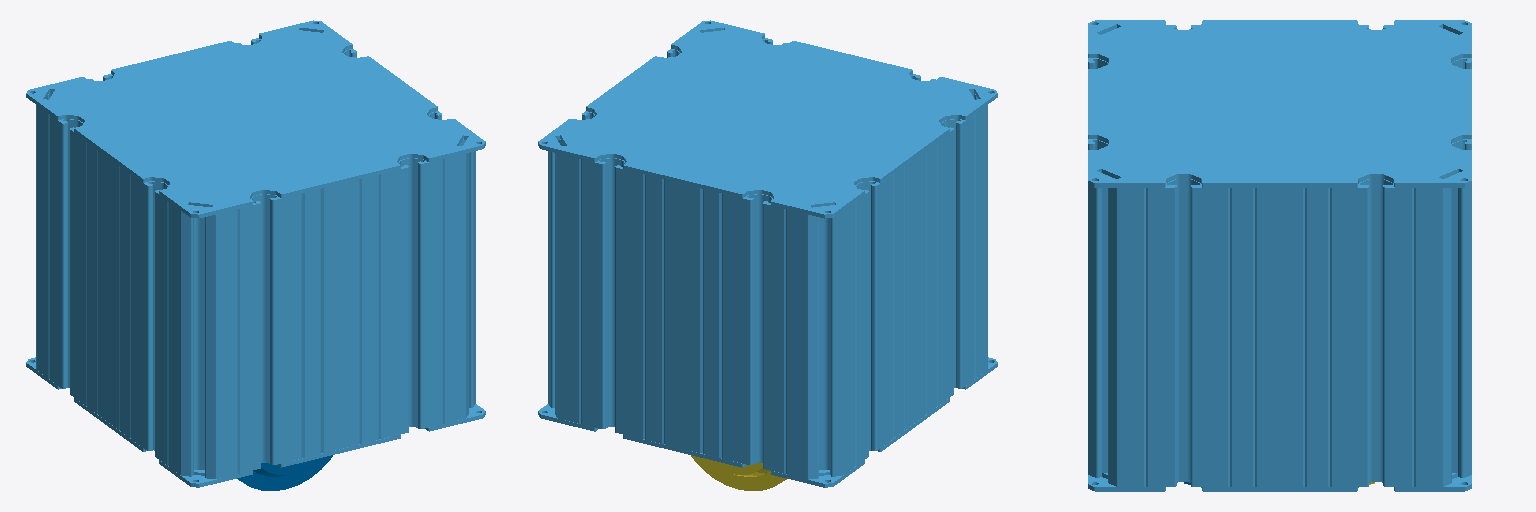
URDF robot description (wheel_brick):
<?xml version="1.0" encoding="utf-8"?>
<robot name="wheel_brick">
    <link name="base_link"/>
    <link name="base_link_inertia">
        <visual>
            <origin rpy="0 0 0" xyz="0 0 0"/>
            <geometry>
                <mesh filename="../meshes/wheeled_brick_housing.obj"/>
            </geometry>
        </visual>
        <!-- Base joint -->
        <collision>
            <origin rpy="0 0 0" xyz="0.0 0.0 0.0"/>
            <geometry>
                <sphere radius="0.07"/>
            </geometry>
        </collision>
        <inertial>
            <mass value="4.0"/>
            <origin rpy="0 0 0" xyz="0 0 0"/>
            <inertia ixx="0.00443333156" ixy="0.0" ixz="0.0" iyy="0.00443333156" iyz="0.0" izz="0.0072"/>
        </inertial>
    </link>
    <link name="pivot_link">
        <visual>
            <origin xyz="0 0 0" rpy="0 0 0"/>
            <geometry>
                <mesh filename="../meshes/kelo_drive_base.obj" scale="1 1 1"/>
            </geometry>
        </visual>

        <!--TODO: Set the correct collisions -->
        <collision>
            <origin xyz="0 0 0.07" rpy="0 0 0"/>
            <geometry>
                <box size="0.105 0.154 0.025" />
            </geometry>
        </collision>
    </link>
    <link name="left_hub_wheel_link">
        <visual>
            <origin xyz="-0.01 0.039326 0.001514" rpy="0 0 0.0"/>
            <geometry>
                <mesh filename="../meshes/kelo_drive_wheel.obj" scale="1 1 1"/>
            </geometry>
        </visual>
        <collision>
            <origin xyz="-0.01 0.039326 0.001514" rpy="1.570796327 0 0"/>
            <geometry>
                <cylinder radius="0.0515" length="0.035"/>
            </geometry>
        </collision>
    </link>
    <link name="right_hub_wheel_link">
        <visual>
            <origin xyz="-0.01 -0.039326 0.001514" rpy="0 0 0.0"/>
            <geometry>
                <mesh filename="../meshes/kelo_drive_wheel.obj" scale="1 1 1"/>
            </geometry>
        </visual>
        <collision>
            <origin xyz="-0.01 -0.039326 0.001514" rpy="1.570796327 0 0"/>
            <geometry>
                <cylinder radius="0.0515" length="0.035"/>
            </geometry>
        </collision>
    </link>
    <joint name="base_link-base_link_inertia" type="fixed">
        <parent link="base_link"/>
        <child link="base_link_inertia"/>
        <origin rpy="0 0 0" xyz="0 0 0"/>
    </joint>
    <joint name="base_link-pivot_link" type="fixed">
        <parent link="base_link"/>
        <child link="pivot_link"/>
        <origin rpy="0 0 0" xyz="0 0 0"/>
    </joint>
    <joint name="pivot_link-left_hub_wheel_link" type="fixed">
        <parent link="pivot_link"/>
        <child link="left_hub_wheel_link"/>
        <origin rpy="0 0 0" xyz="0 0 0"/>
    </joint>
    <joint name="pivot_link-right_hub_wheel_link" type="fixed">
        <parent link="pivot_link"/>
        <child link="right_hub_wheel_link"/>
        <origin rpy="0 0 0" xyz="0 0 0"/>
    </joint>
</robot>

--- Facts derived from the render (not from the file) ---
3 views of the same robot in one strip: view 1: azimuth 30°, elevation 25°; view 2: azimuth 150°, elevation 25°; view 3: azimuth 270°, elevation 25° (orthographic).
Robot: wheel_brick — 5 links, 4 joints (4 fixed); root link base_link; default pose: all joints at 0.
Visible links, largest first — view 1: base_link_inertia, right_hub_wheel_link; view 2: base_link_inertia, left_hub_wheel_link; view 3: base_link_inertia.
Link boxes in pixels (left/top/right/bottom): base_link_inertia: left=26, top=20, right=485, bottom=487; right_hub_wheel_link: left=237, top=455, right=332, bottom=490; base_link_inertia: left=538, top=20, right=997, bottom=487; left_hub_wheel_link: left=691, top=455, right=786, bottom=490; base_link_inertia: left=1088, top=20, right=1471, bottom=491.
Bounding box of the posed robot: 0.233 × 0.233 × 0.2561 m (x, y, z).
4 mesh visuals loaded from 3 distinct referenced files (3 OBJ).